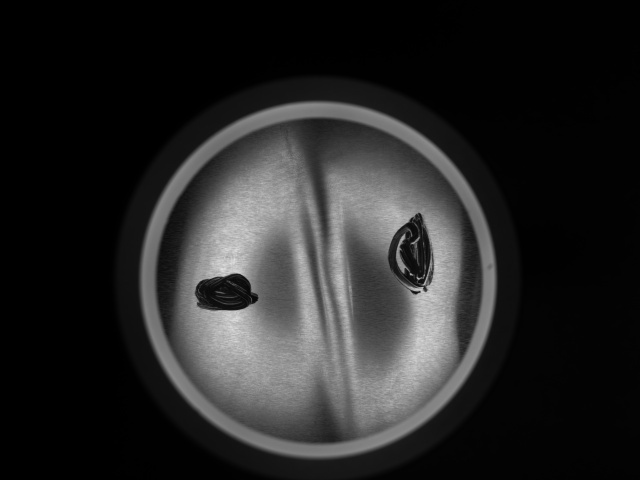zang_wu: (389, 211, 438, 296), (194, 269, 261, 314)
zhe_zhou: (197, 146, 442, 405)
